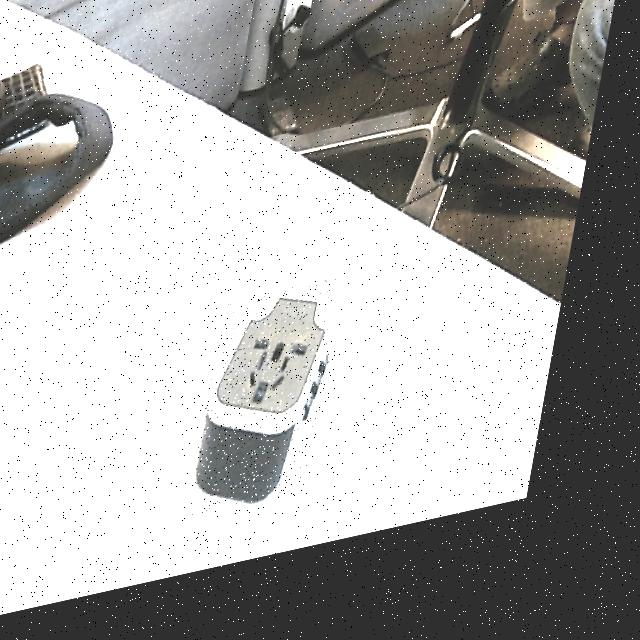adapter: (207, 294, 358, 531)
